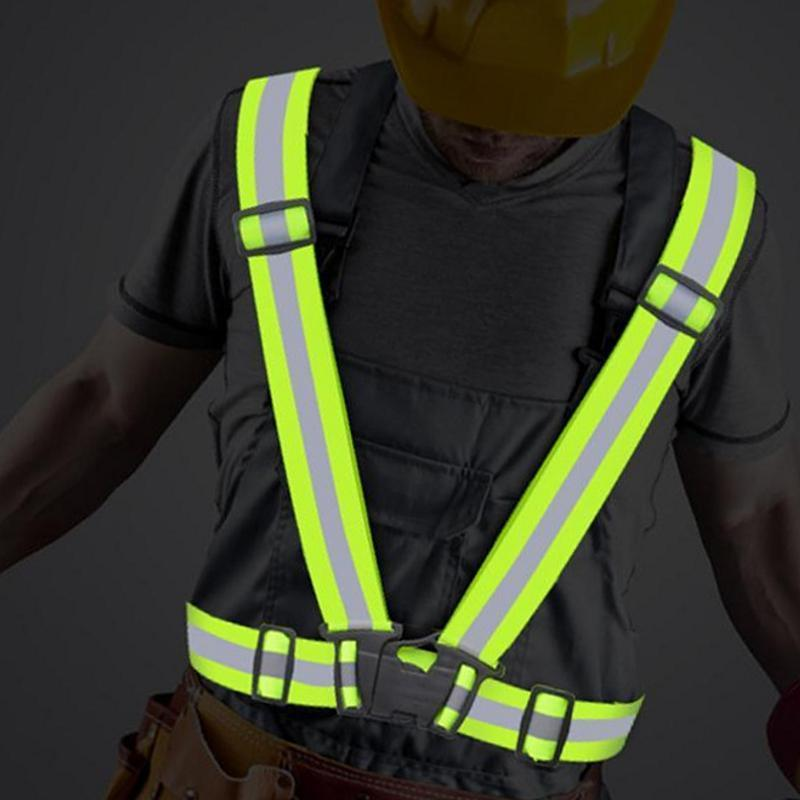Vest: (179, 118, 742, 722)
